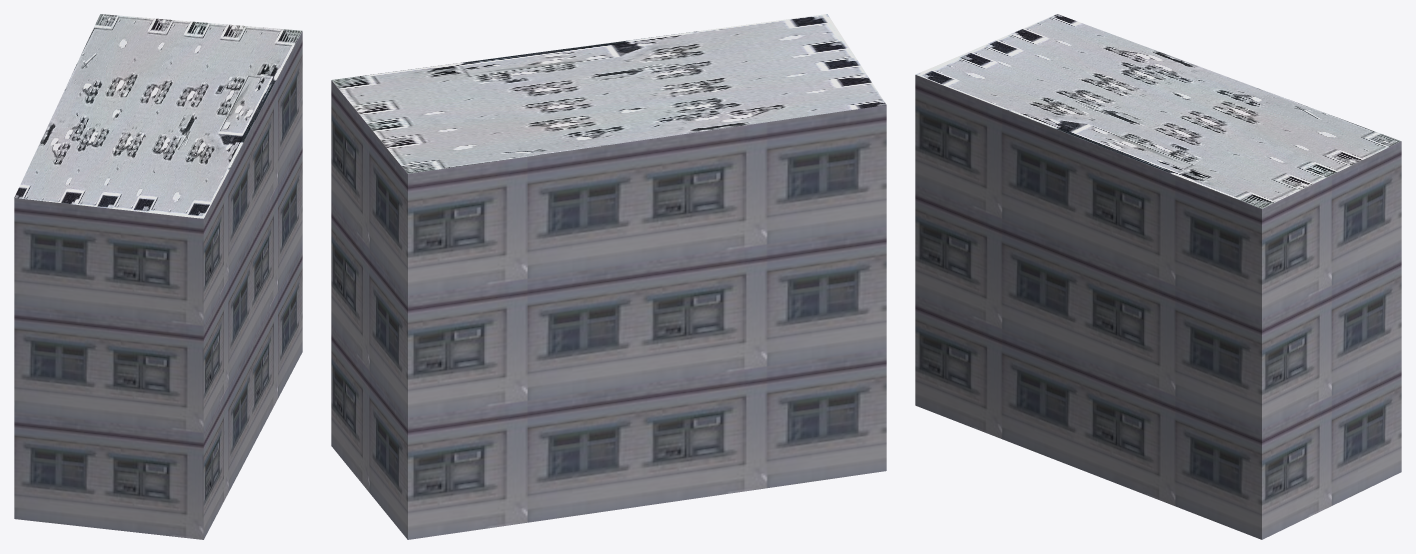
The model's file is ResTex__3347.fbx.
The picture shows the model from 3 angles, left to right: view 1: azimuth 30°, elevation 25°; view 2: azimuth 150°, elevation 25°; view 3: azimuth 270°, elevation 25°; orthographic projection. The views are drawn at different scales.
Parts seen in each view (by area): view 1: CityEngineMaterial_1_m, CityEngineMaterial_2_m; view 2: CityEngineMaterial_1_m, CityEngineMaterial_2_m; view 3: CityEngineMaterial_1_m, CityEngineMaterial_2_m.
Part boxes in pixels (left/top/right/bottom): CityEngineMaterial_1_m: left=14, top=31, right=302, bottom=539; CityEngineMaterial_2_m: left=14, top=14, right=302, bottom=218; CityEngineMaterial_1_m: left=331, top=80, right=886, bottom=539; CityEngineMaterial_2_m: left=331, top=14, right=886, bottom=173; CityEngineMaterial_1_m: left=915, top=75, right=1401, bottom=539; CityEngineMaterial_2_m: left=916, top=14, right=1400, bottom=208.
Size of the model in its own units: 11.38 by 9 by 11.98.
2 materials, 2 textured.
